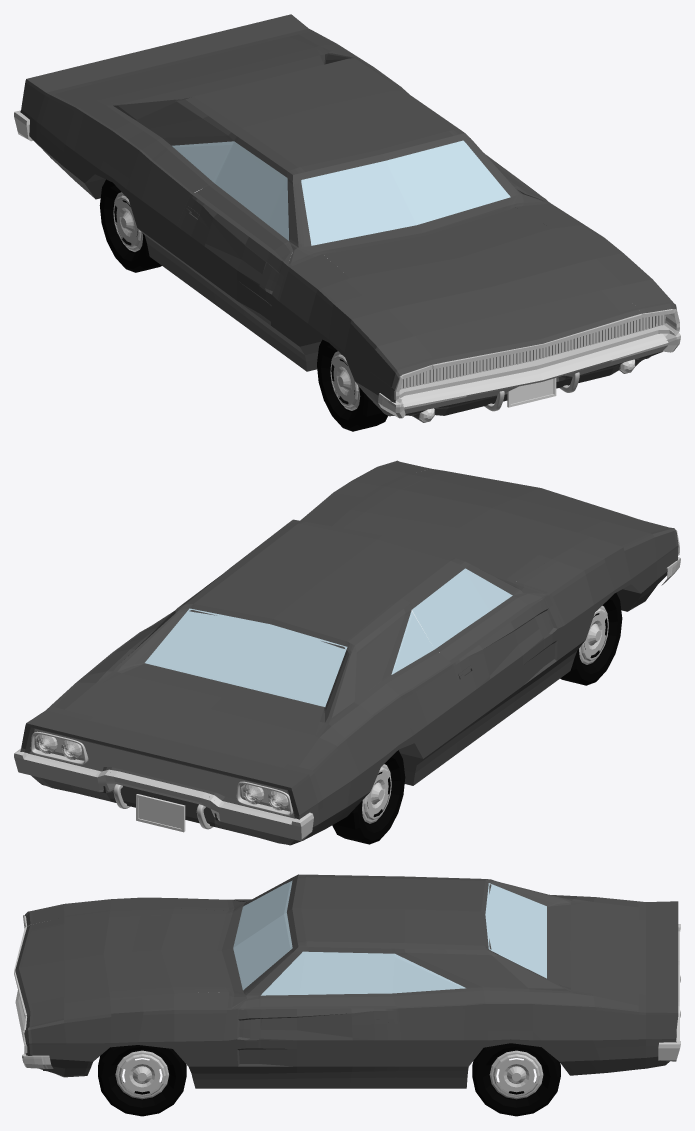
Rendered from dodge_charger.glb.
The picture shows the model from 3 angles, top to bottom: view 1: azimuth 30°, elevation 25°; view 2: azimuth 150°, elevation 25°; view 3: azimuth 270°, elevation 25°; orthographic projection. The views are drawn at different scales.
Parts seen in each view (by area): view 1: Carroceria_Plano.004, Carroceria.002_Plano.016, Vidris_Plano.005, Puertas_Plano, Parachoques_delantero_Cubo.001, Vidris.001_Plano.008, Carroceria.001_Plano.015, Cubo.002, Círculo, Círculo.003_Círculo.006, Vidris.003_Plano.010, Carroceria.003_Plano.017 (+3 smaller); view 2: Carroceria_Plano.004, Carroceria.002_Plano.016, Vidris.002_Plano.009, Puertas_Plano, Cubo, Vidris.001_Plano.008, Plano.003_Plano.014, Círculo.003_Círculo.006, Círculo, Plano.004_Plano.002, Círculo.006_Círculo.011, Vidris.003_Plano.010 (+3 smaller); view 3: Carroceria_Plano.004, Carroceria.002_Plano.016, Puertas_Plano, Vidris.001_Plano.008, Vidris.002_Plano.009, Vidris_Plano.005, Círculo.003_Círculo.006, Círculo, Vidris.003_Plano.010, Círculo.002, Círculo.004_Círculo.007, Círculo.005_Círculo.008 (+3 smaller).
Part boxes in pixels (x1=…): Carroceria_Plano.004: x1=20, y1=14, x2=676, y2=422; Carroceria.002_Plano.016: x1=323, y1=207, x2=641, y2=364; Vidris_Plano.005: x1=301, y1=140, x2=510, y2=245; Puertas_Plano: x1=177, y1=153, x2=548, y2=344; Parachoques_delantero_Cubo.001: x1=378, y1=333, x2=680, y2=418; Vidris.001_Plano.008: x1=214, y1=140, x2=464, y2=240; Carroceria.001_Plano.015: x1=394, y1=309, x2=679, y2=402; Cubo.002: x1=400, y1=316, x2=654, y2=389; Círculo: x1=317, y1=339, x2=387, y2=431; Círculo.003_Círculo.006: x1=99, y1=179, x2=161, y2=272; Vidris.003_Plano.010: x1=172, y1=141, x2=233, y2=182; Carroceria.003_Plano.017: x1=432, y1=314, x2=641, y2=369; Carroceria_Plano.004: x1=20, y1=460, x2=678, y2=845; Carroceria.002_Plano.016: x1=332, y1=468, x2=637, y2=581; Vidris.002_Plano.009: x1=145, y1=608, x2=347, y2=706; Puertas_Plano: x1=435, y1=592, x2=563, y2=742; Cubo: x1=14, y1=748, x2=313, y2=841; Vidris.001_Plano.008: x1=412, y1=568, x2=512, y2=648; Plano.003_Plano.014: x1=34, y1=729, x2=289, y2=811; Círculo.003_Círculo.006: x1=332, y1=750, x2=405, y2=844; Círculo: x1=560, y1=593, x2=622, y2=685; Plano.004_Plano.002: x1=136, y1=794, x2=185, y2=832; Círculo.006_Círculo.011: x1=36, y1=734, x2=288, y2=810; Vidris.003_Plano.010: x1=391, y1=611, x2=434, y2=674; Carroceria_Plano.004: x1=24, y1=874, x2=678, y2=1088; Carroceria.002_Plano.016: x1=15, y1=908, x2=228, y2=1014; Puertas_Plano: x1=227, y1=899, x2=399, y2=1079; Vidris.001_Plano.008: x1=261, y1=951, x2=394, y2=995; Vidris.002_Plano.009: x1=485, y1=883, x2=546, y2=978; Vidris_Plano.005: x1=233, y1=880, x2=292, y2=990; Círculo.003_Círculo.006: x1=472, y1=1043, x2=560, y2=1116; Círculo: x1=98, y1=1045, x2=186, y2=1116; Vidris.003_Plano.010: x1=392, y1=954, x2=465, y2=993; Círculo.002: x1=123, y1=1059, x2=160, y2=1092; Círculo.004_Círculo.007: x1=498, y1=1059, x2=535, y2=1092; Círculo.005_Círculo.008: x1=489, y1=1050, x2=543, y2=1099.
Bounding box in the file's own units: 3.66 × 2.17 × 8.49.
